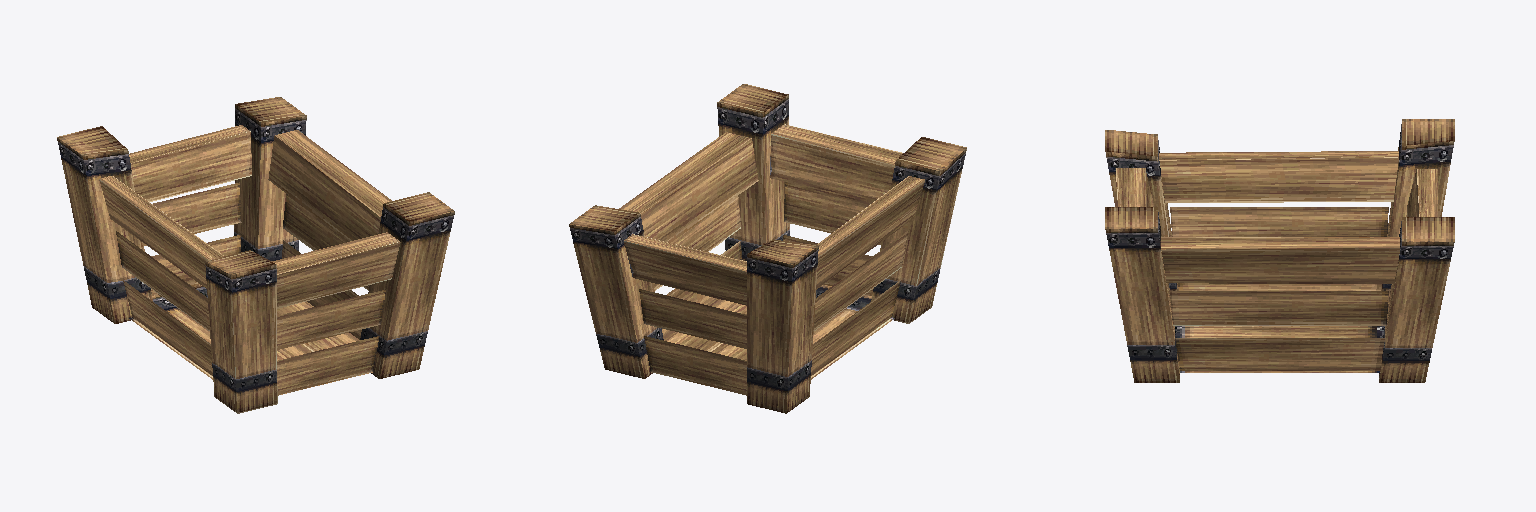
3 renders of one model, left to right at view 1: azimuth 30°, elevation 25°; view 2: azimuth 150°, elevation 25°; view 3: azimuth 270°, elevation 25°, orthographic.
Parts seen in each view (by area): view 1: crate01.m2; view 2: crate01.m2; view 3: crate01.m2.
Boxes of the visible parts, x1,y1,x2,y2 form: crate01.m2: [57, 97, 454, 413]; crate01.m2: [569, 84, 966, 413]; crate01.m2: [1105, 119, 1454, 382].
Bounding box in the file's own units: 1.1 × 0.7719 × 1.48.
Materials: 1 (1 with a texture image).